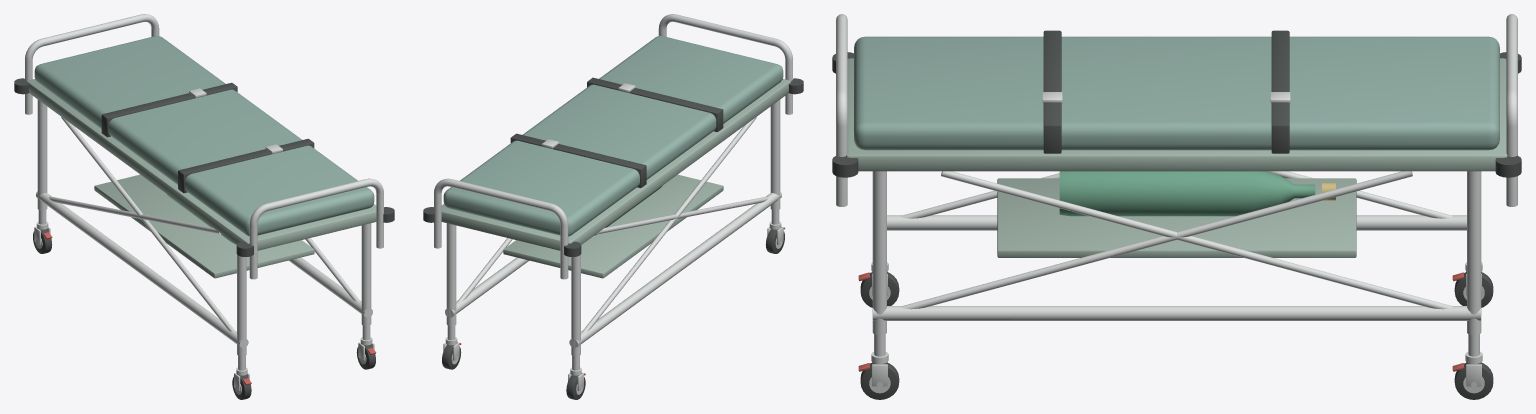
Rendered from CTCC_PROP_TransportTrolley.fbx.
3 views of the same model, side by side, from view 1: azimuth 30°, elevation 25°; view 2: azimuth 150°, elevation 25°; view 3: azimuth 270°, elevation 25° (orthographic). The views are drawn at different scales.
Parts seen in each view (by area): view 1: CTCC_PROP_TransportTrolley_LOD0; view 2: CTCC_PROP_TransportTrolley_LOD0; view 3: CTCC_PROP_TransportTrolley_LOD0.
Part boxes in pixels (bbox=[...]): CTCC_PROP_TransportTrolley_LOD0: bbox=[14, 14, 394, 399]; CTCC_PROP_TransportTrolley_LOD0: bbox=[423, 14, 803, 399]; CTCC_PROP_TransportTrolley_LOD0: bbox=[832, 14, 1521, 399].
Size of what is drawn, in the model's own units: 0.776 by 0.957 by 2.
